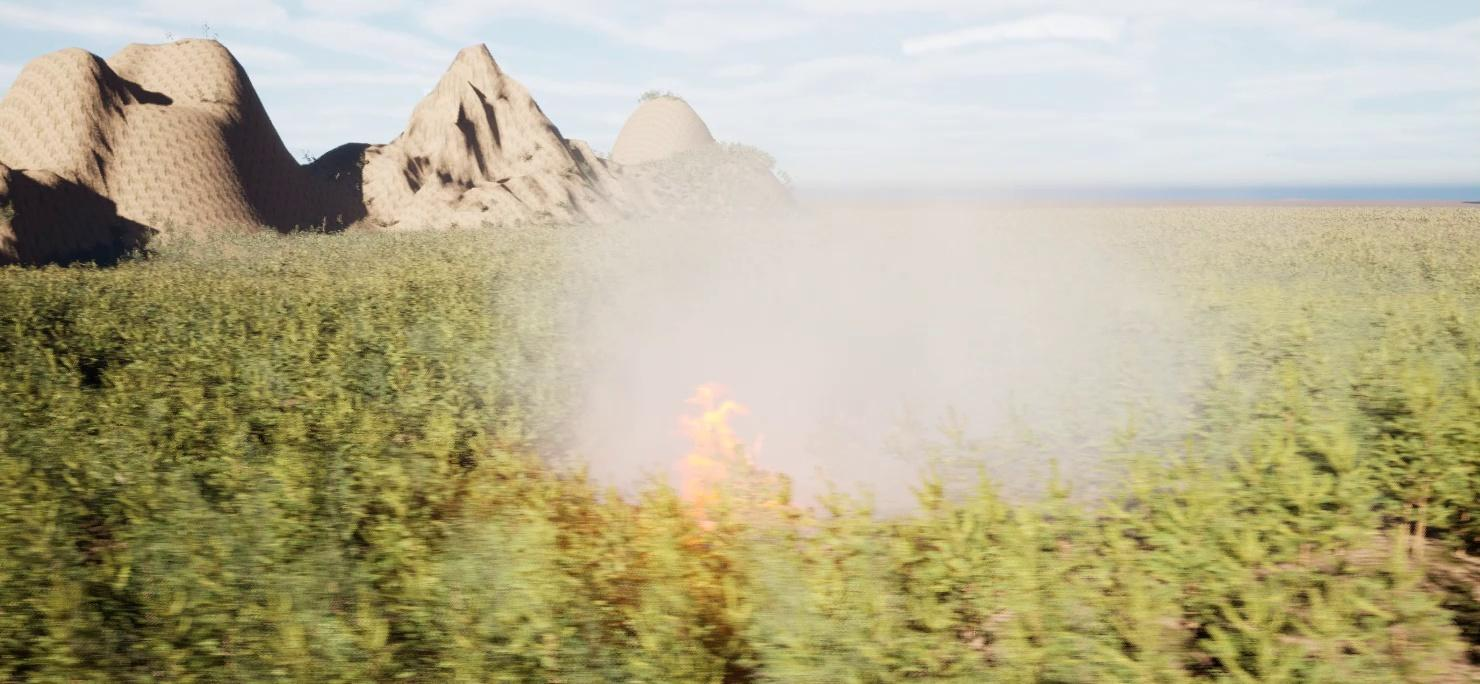fire: (666, 359, 821, 556)
smoke: (504, 53, 1271, 508)
